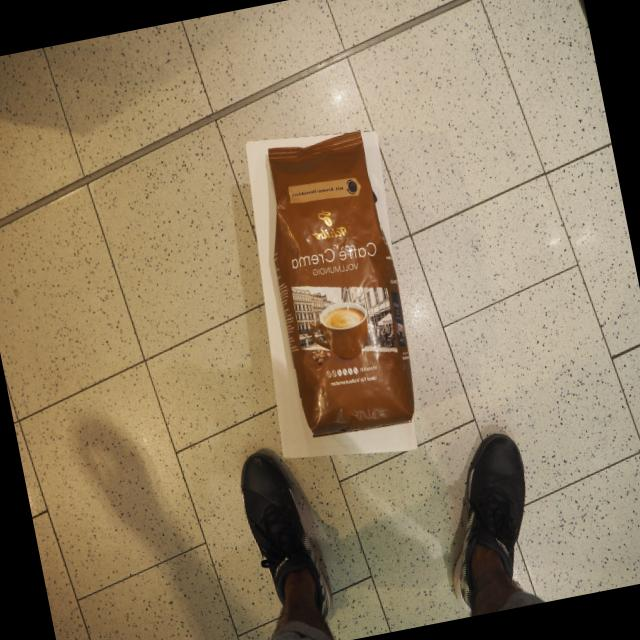CC Vollmundig 36 Pads: (248, 125, 426, 442)
